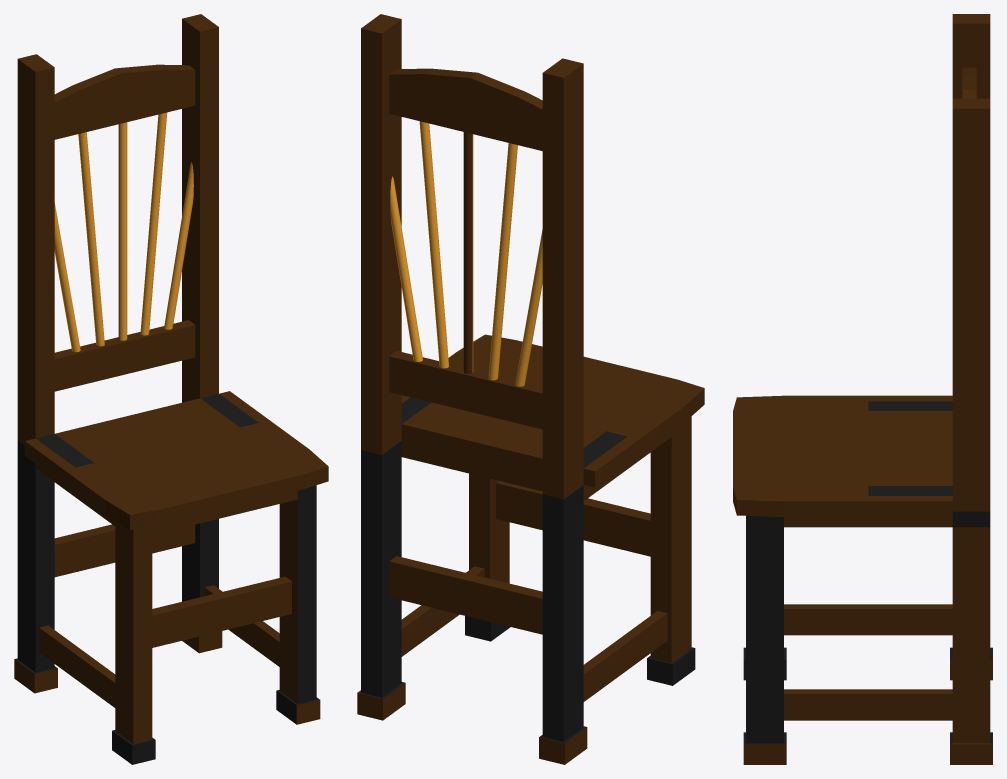
The model's file is Chair_A.fbx.
The picture shows the model from 3 angles, left to right: view 1: azimuth 30°, elevation 25°; view 2: azimuth 150°, elevation 25°; view 3: azimuth 270°, elevation 25°; orthographic projection. The views are drawn at different scales.
Visible parts, largest first — view 1: Chair_A; view 2: Chair_A; view 3: Chair_A.
Boxes of the visible parts, box(x1,y1,x2,y2) form: Chair_A: box(14, 14, 328, 764); Chair_A: box(357, 14, 704, 764); Chair_A: box(733, 14, 992, 764).
Bounding box in the file's own units: 0.9543 × 2.76 × 0.9916.
